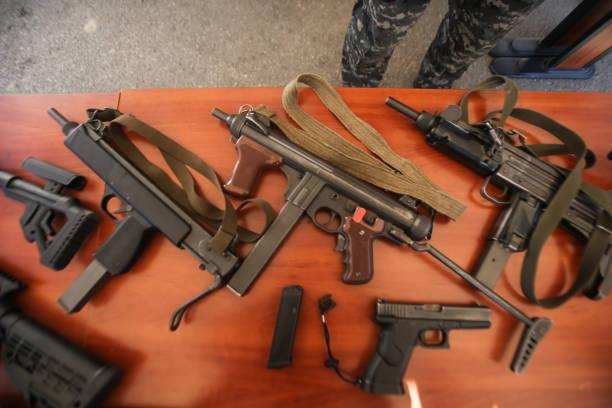weapon: (384, 91, 612, 289), (210, 104, 434, 296), (46, 102, 240, 313), (357, 294, 494, 397)
